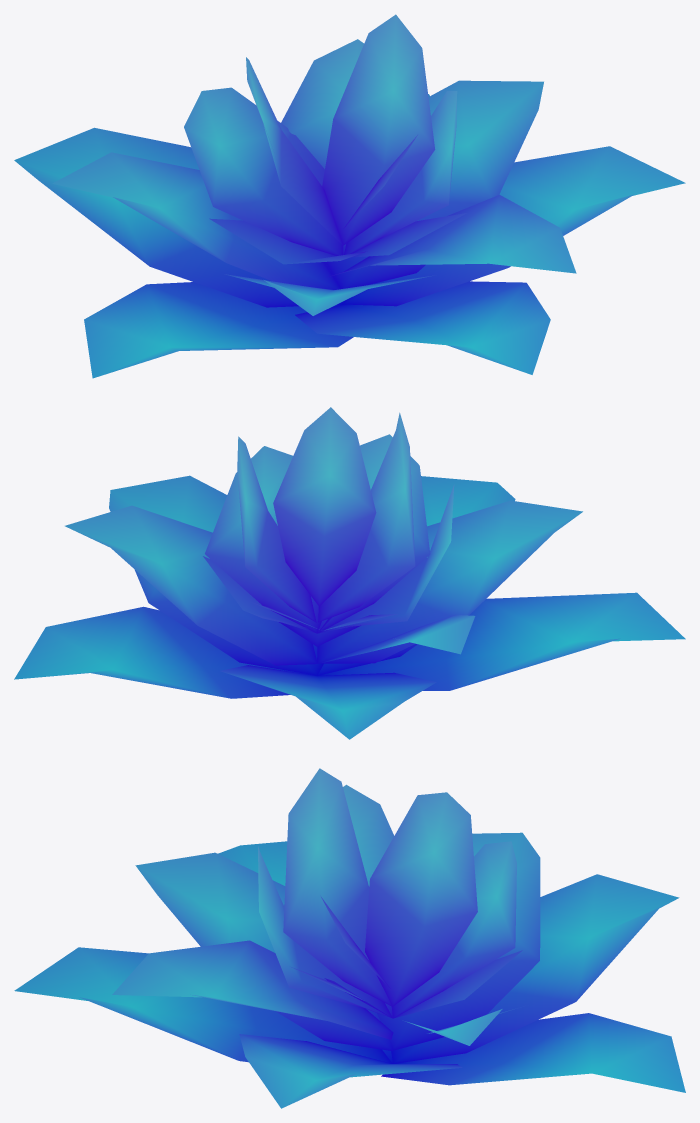
The model's file is SM_Env_Flower_03.glb.
3 renders of one model, top to bottom at view 1: azimuth 30°, elevation 25°; view 2: azimuth 150°, elevation 25°; view 3: azimuth 270°, elevation 25°, orthographic. The views are drawn at different scales.
Visible parts, largest first — view 1: SM_Env_Flower_03_LOD0; view 2: SM_Env_Flower_03_LOD0; view 3: SM_Env_Flower_03_LOD0.
Part boxes in pixels (<box>): SM_Env_Flower_03_LOD0: <box>14,14,685,378</box>; SM_Env_Flower_03_LOD0: <box>14,407,685,739</box>; SM_Env_Flower_03_LOD0: <box>14,768,685,1108</box>.
Size of what is drawn, in the model's own units: 0.6675 by 0.2875 by 0.6475.
